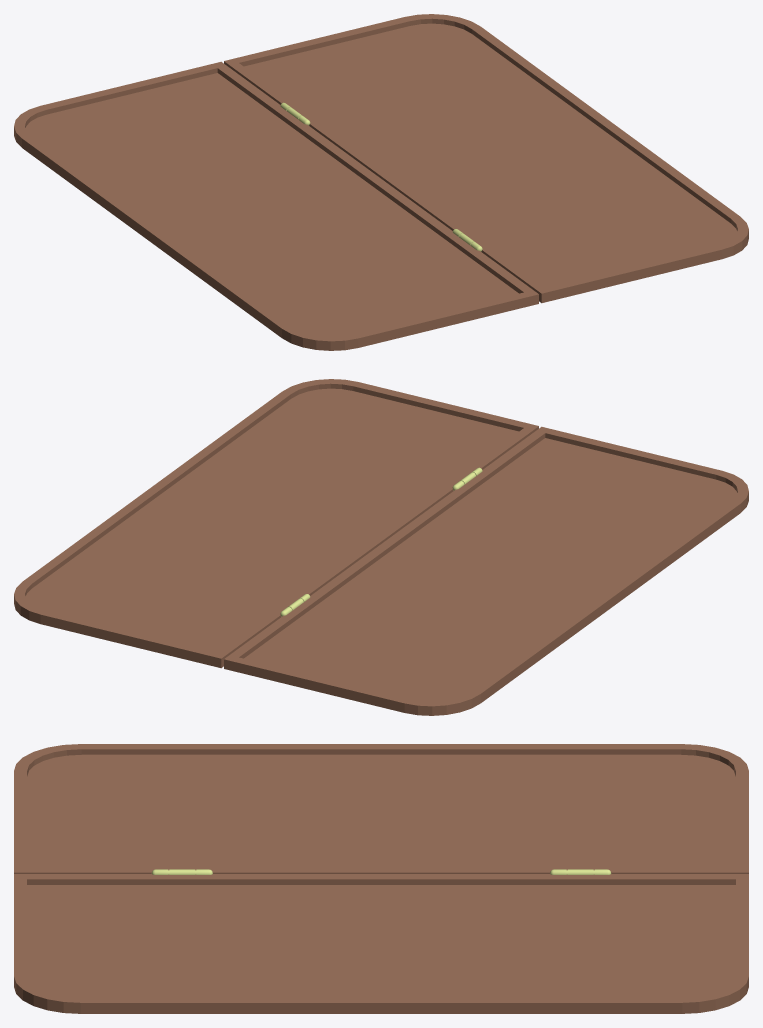
The model's file is Throwing pad.fbx.
3 views of the same model, one above another, from view 1: azimuth 30°, elevation 25°; view 2: azimuth 150°, elevation 25°; view 3: azimuth 270°, elevation 25° (orthographic). The views are drawn at different scales.
Parts seen in each view (by area): view 1: Throwing pad; view 2: Throwing pad; view 3: Throwing pad, Cylinder.
Boxes of the visible parts, bbox=[...] form: Throwing pad: bbox=[14, 14, 748, 350]; Throwing pad: bbox=[14, 379, 748, 715]; Throwing pad: bbox=[14, 744, 748, 1013]; Cylinder: bbox=[151, 869, 611, 874].
Size of the model in its own units: 25 by 0.6621 by 30.
